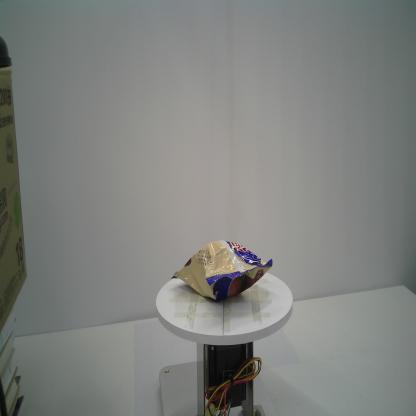Dessert: (170, 239, 273, 302)
